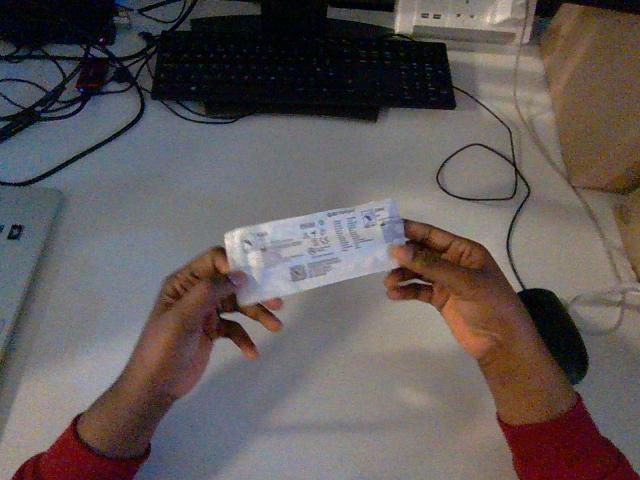syringe: (225, 199, 405, 304)
